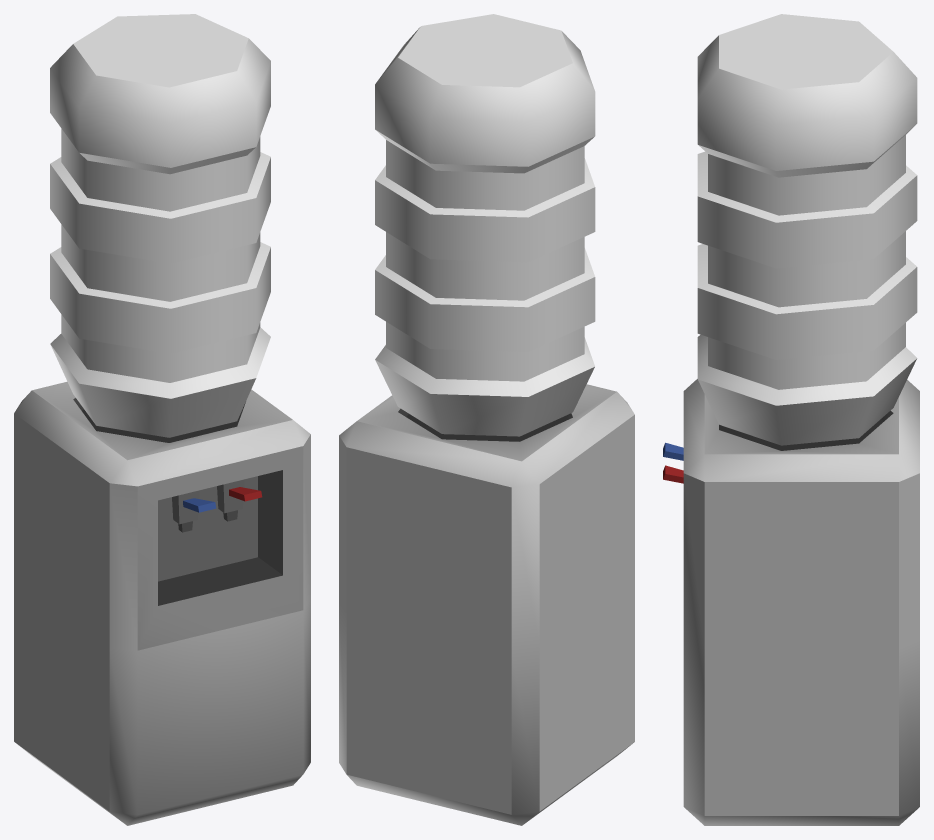
Rendered from WaterCooler.fbx.
3 renders of one model, left to right at view 1: azimuth 30°, elevation 25°; view 2: azimuth 150°, elevation 25°; view 3: azimuth 270°, elevation 25°, orthographic.
Visible parts, largest first — view 1: WaterCooler, WaterCoolerJug; view 2: WaterCooler, WaterCoolerJug; view 3: WaterCooler, WaterCoolerJug.
Part boxes in pixels (bbox=[...]): WaterCooler: bbox=[14, 381, 310, 825]; WaterCoolerJug: bbox=[50, 14, 270, 437]; WaterCooler: bbox=[339, 384, 634, 825]; WaterCoolerJug: bbox=[375, 14, 595, 436]; WaterCooler: bbox=[663, 379, 919, 825]; WaterCoolerJug: bbox=[697, 14, 917, 445].
Size of the model in its own units: 0.3936 by 1.35 by 0.4281.
